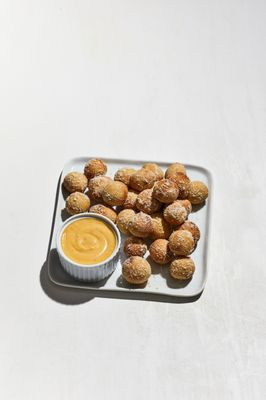sushi: (57, 213, 121, 283)
